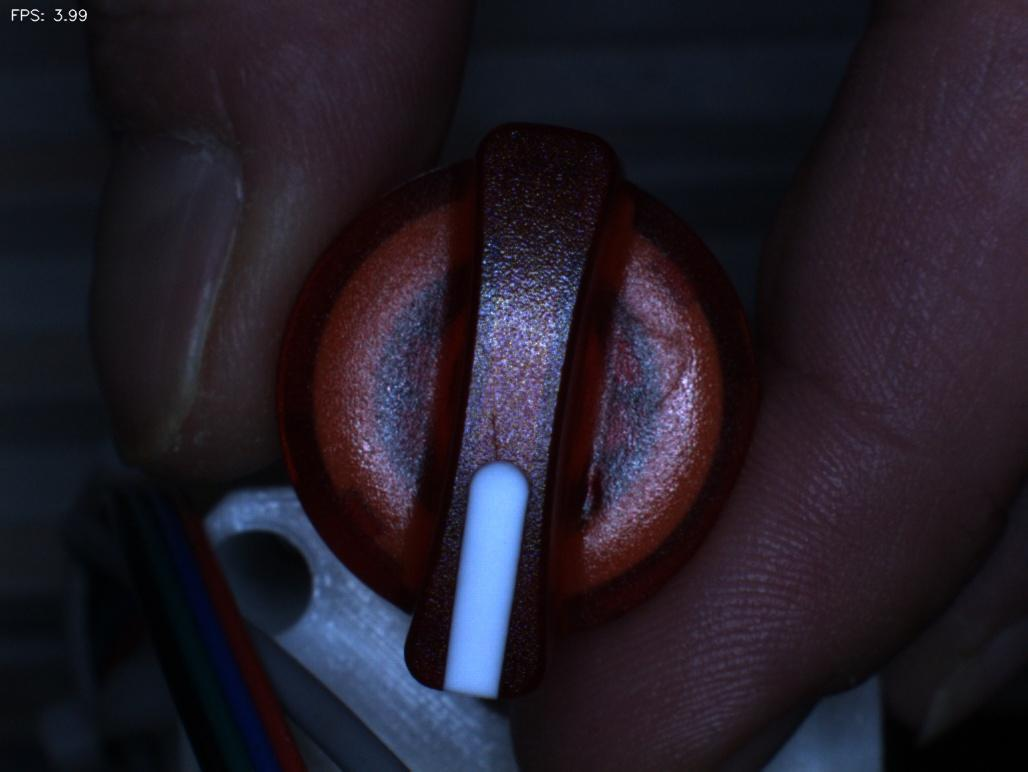Choc: (551, 446, 635, 538)
